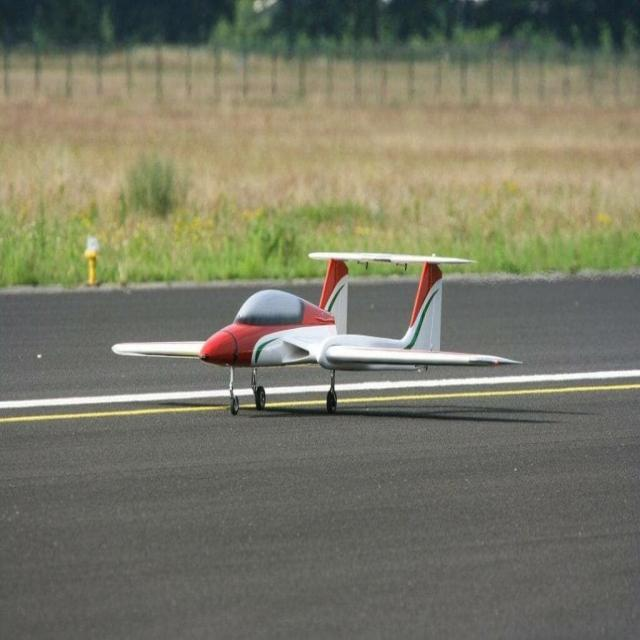iha: (110, 242, 523, 408)
